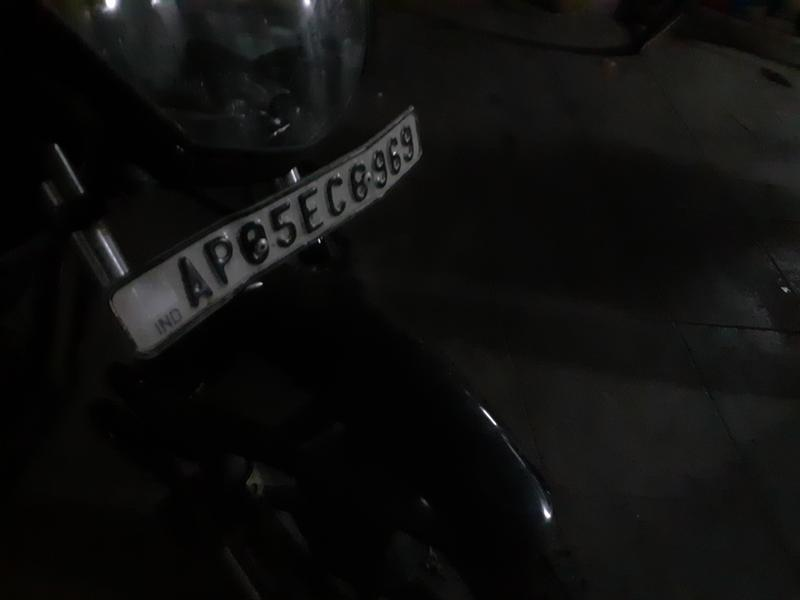numberplate: (117, 105, 439, 364)
